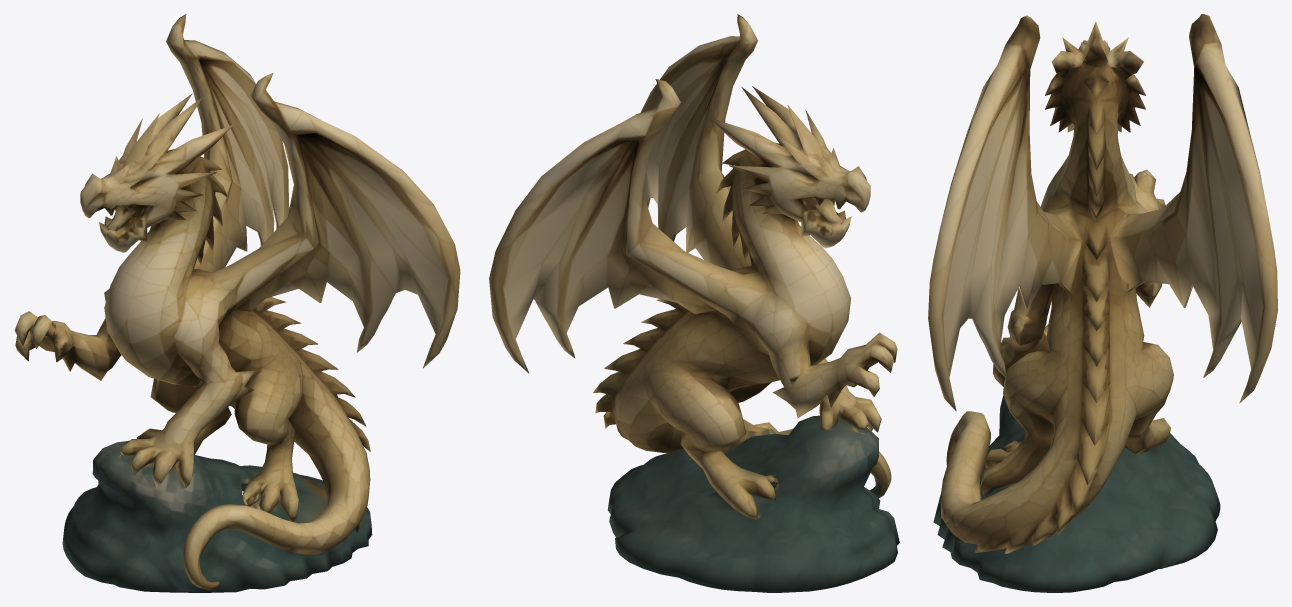
3 renders of one model, left to right at view 1: azimuth 30°, elevation 25°; view 2: azimuth 150°, elevation 25°; view 3: azimuth 270°, elevation 25°, orthographic. The views are drawn at different scales.
Parts seen in each view (by area): view 1: material; view 2: material; view 3: material.
Part boxes in pixels (x1=…): material: x1=14, y1=14, x2=460, y2=592; material: x1=489, y1=14, x2=899, y2=592; material: x1=928, y1=14, x2=1277, y2=592.
Size of the model in its own units: 1.45 by 1.9 by 1.15.
1 material, 1 textured.
